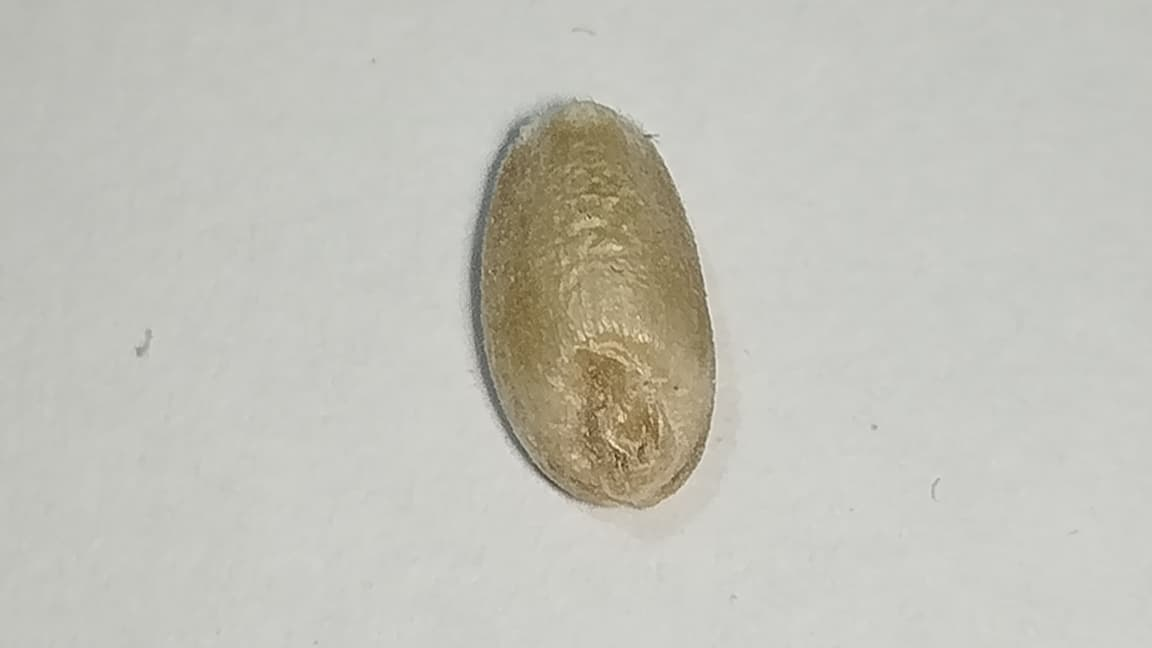damage: (478, 99, 716, 513)
insectdamage: (550, 303, 694, 502)
